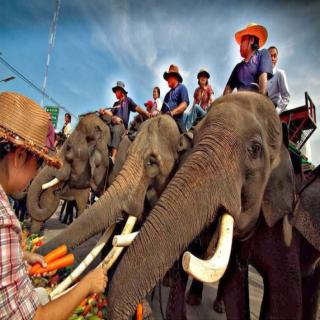Elephant: (114, 84, 311, 320), (28, 108, 200, 280), (21, 98, 136, 232)
